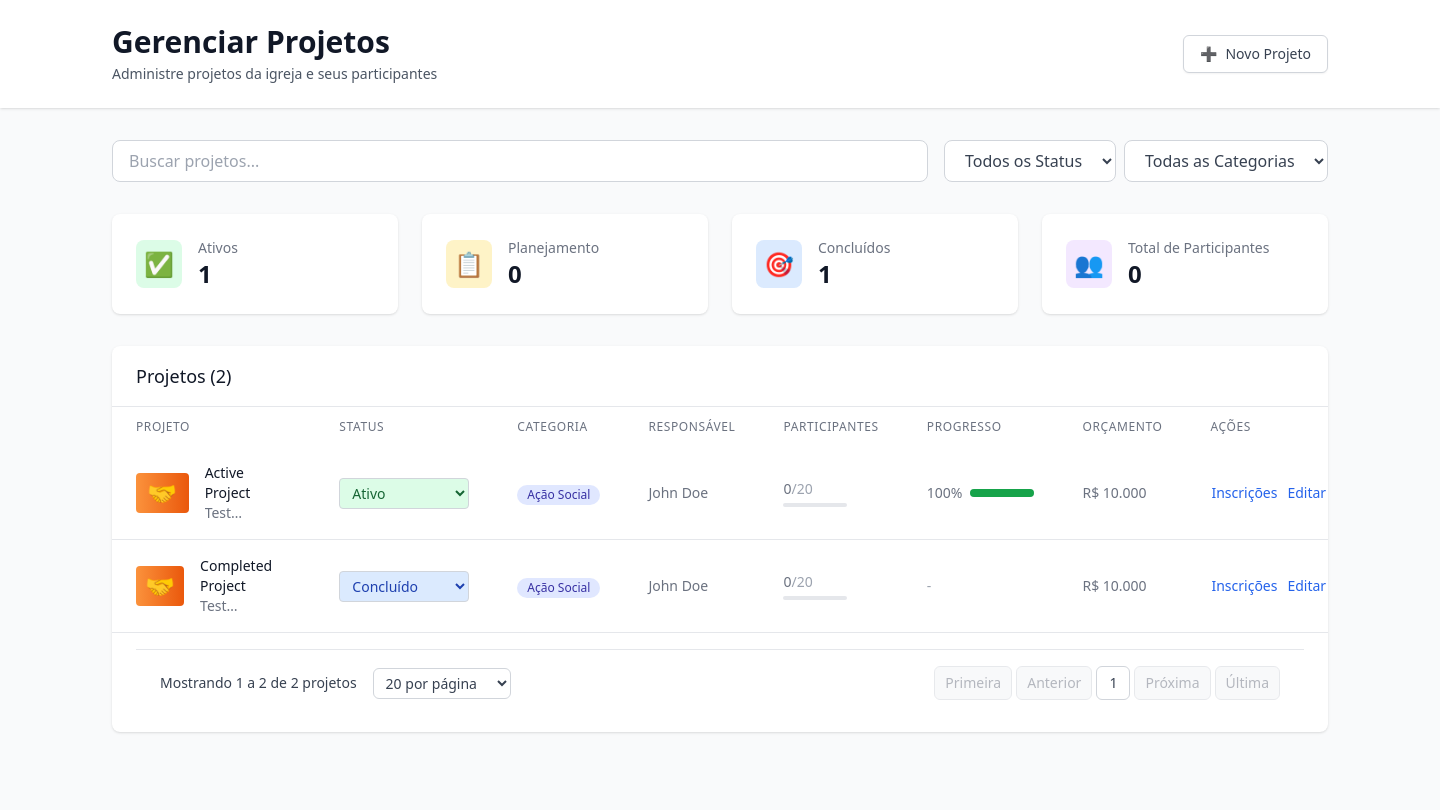
Scenario: AdminProjectsManagementPage › Filtering › should filter projects by status
Check: the text "Active Project" is shown, box [205,463,250,502]
Check: the text "Completed Project" is shown, box [200,556,272,595]
Filter by completed status
Select "Concluído" in the 1st dropdown at {"x": 1030, "y": 161}, box [944,140,1116,182]
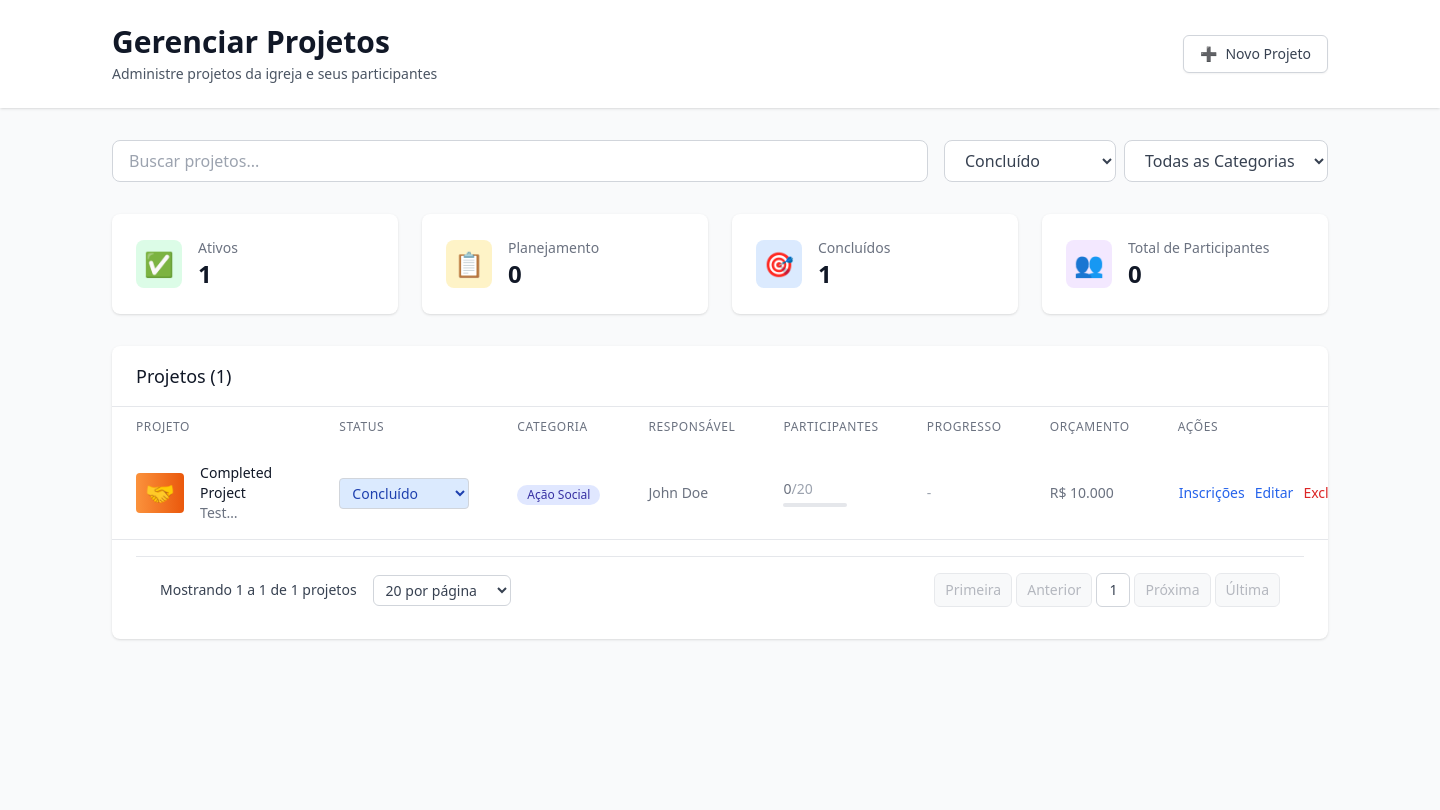
Check: the text "Completed Project" is shown, box [200,463,272,502]
Check: the text "Active Project" is gone
